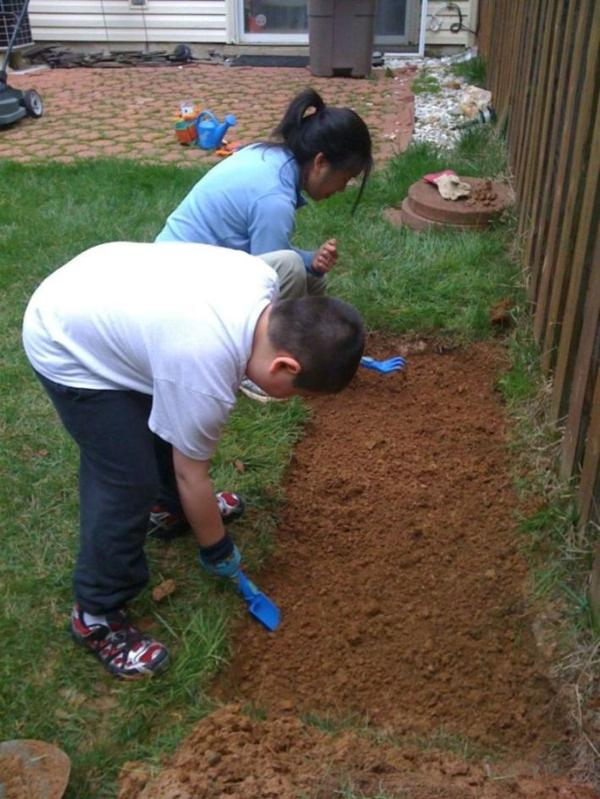person: (23, 242, 366, 681)
